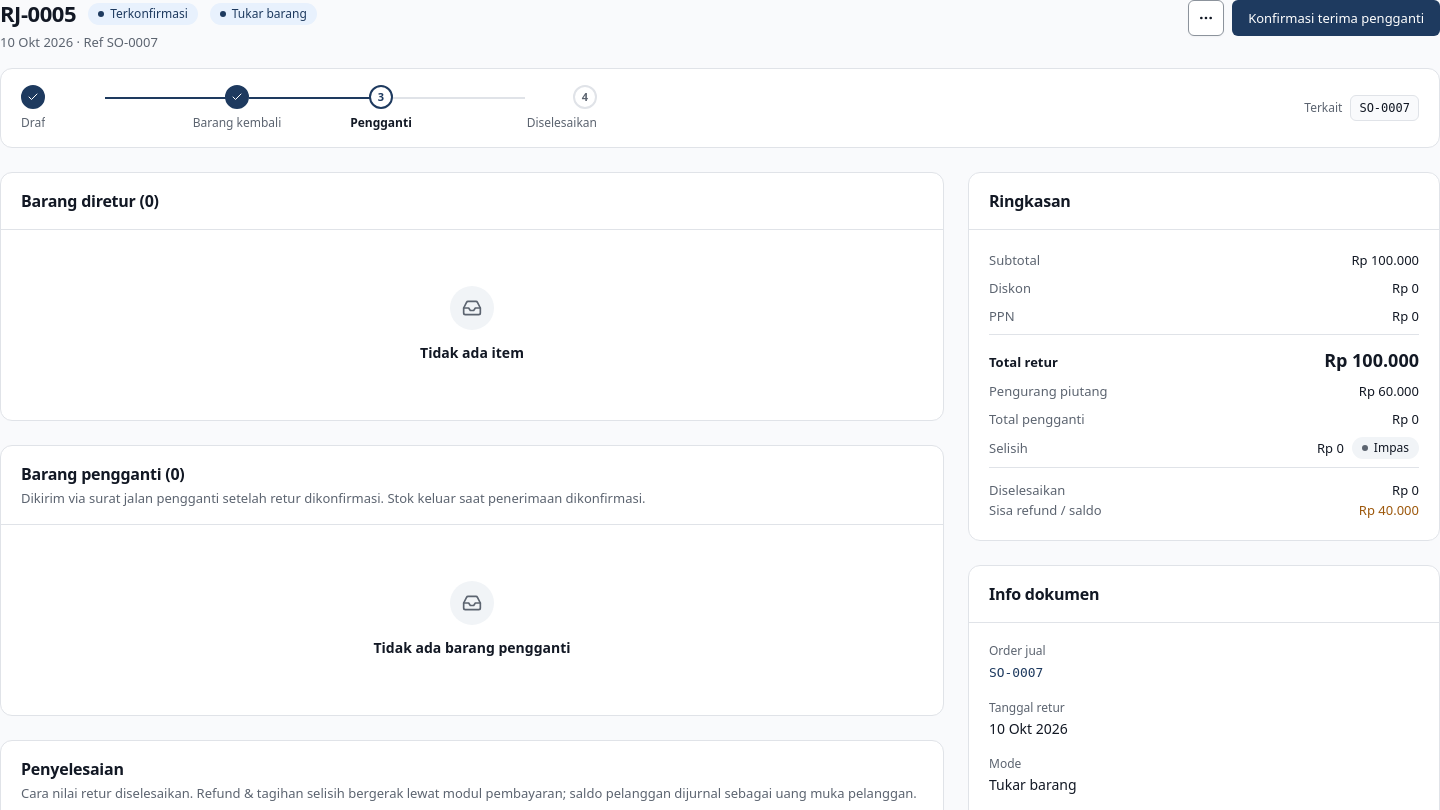
Test case: koreksi: batalkan retur & pengiriman pengganti dengan alasan › SJ pengganti masih draf: aksi tarik pengiriman meminta alasan lalu mengirimnya
This screenshot has width=1440, height=810.
Click the button named "Aksi lainnya": (1206, 18) [1188, 0, 1224, 36]
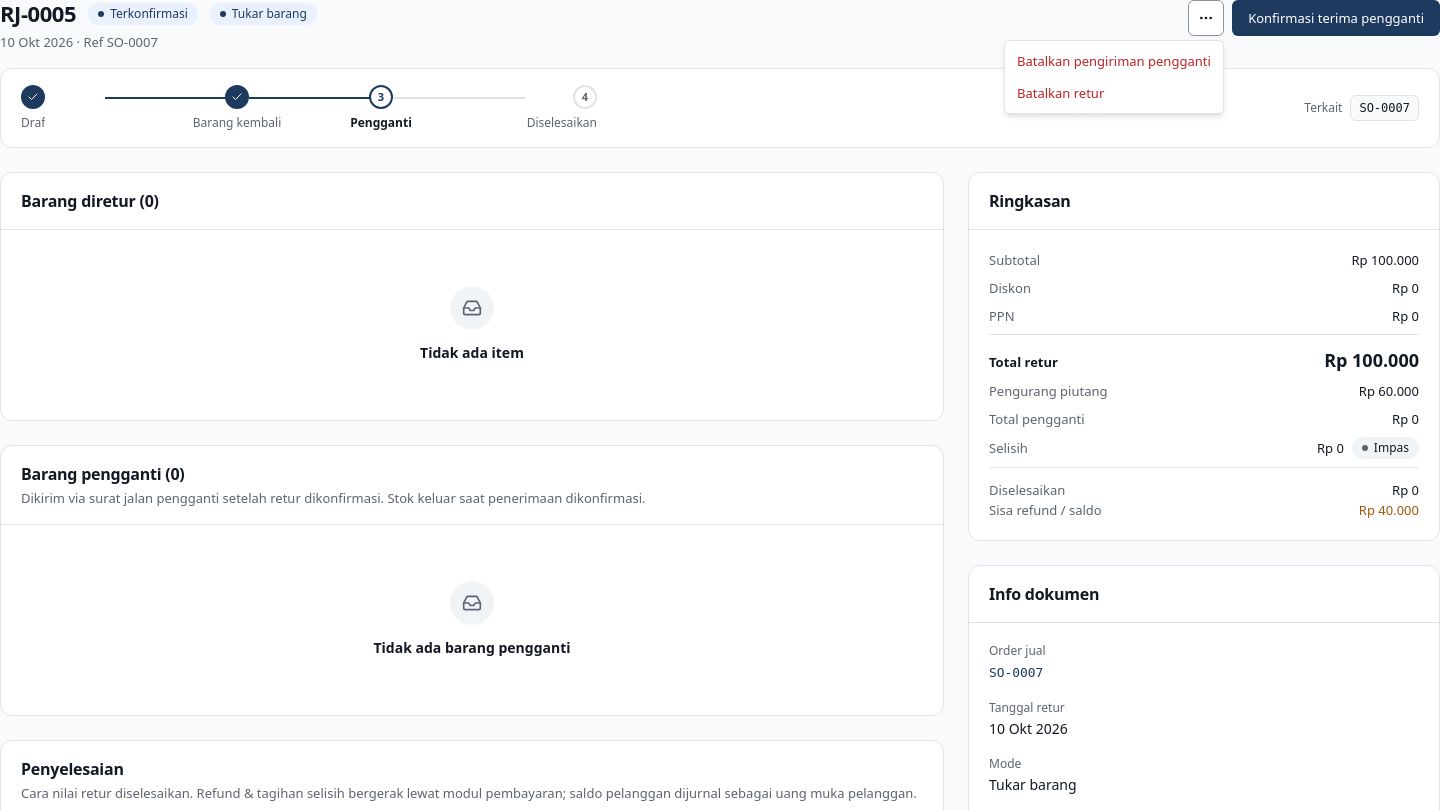
Click the menu item "Batalkan pengiriman pengganti": (1114, 61) [1017, 52, 1211, 70]
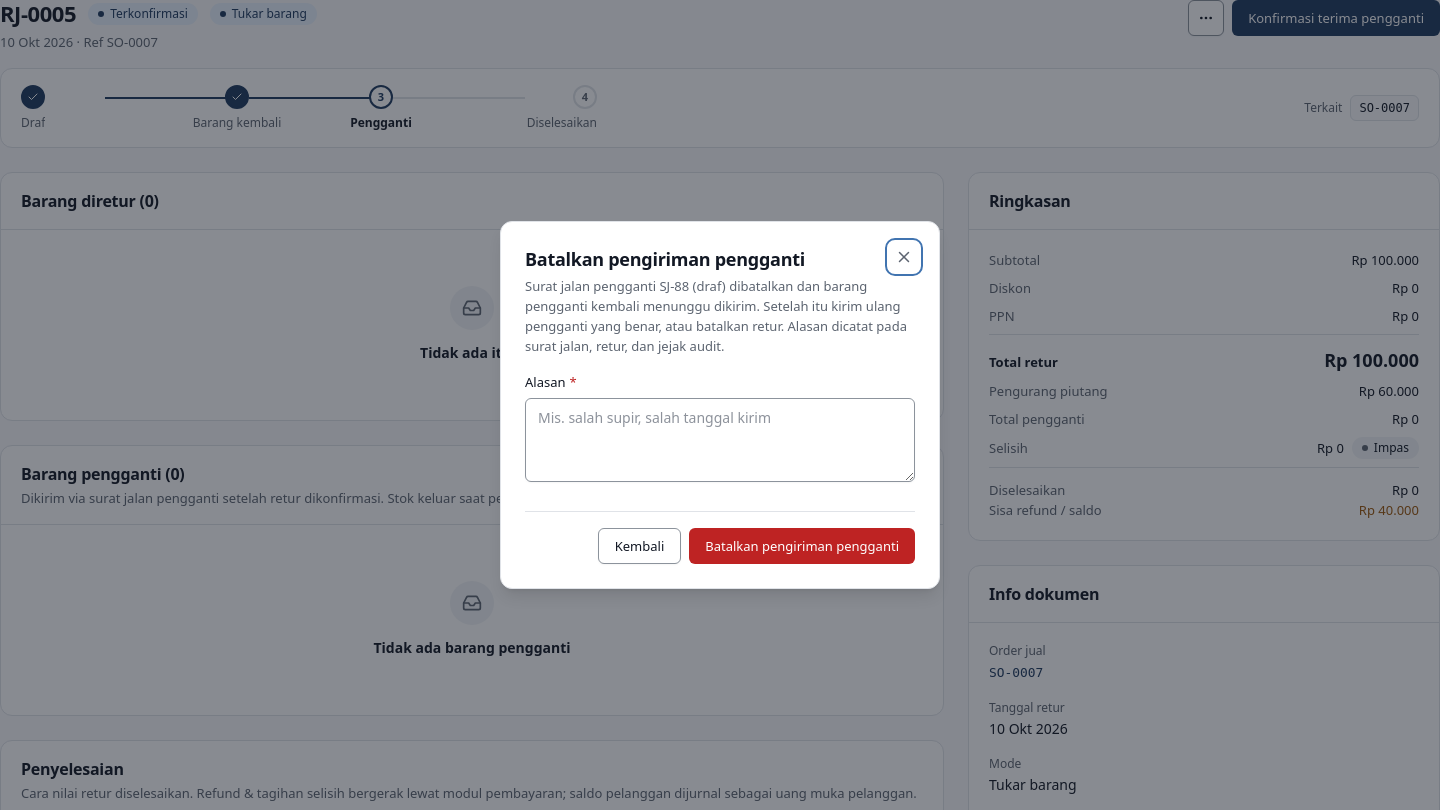
Click the button "Batalkan pengiriman pengganti": (802, 546) [689, 528, 915, 564]
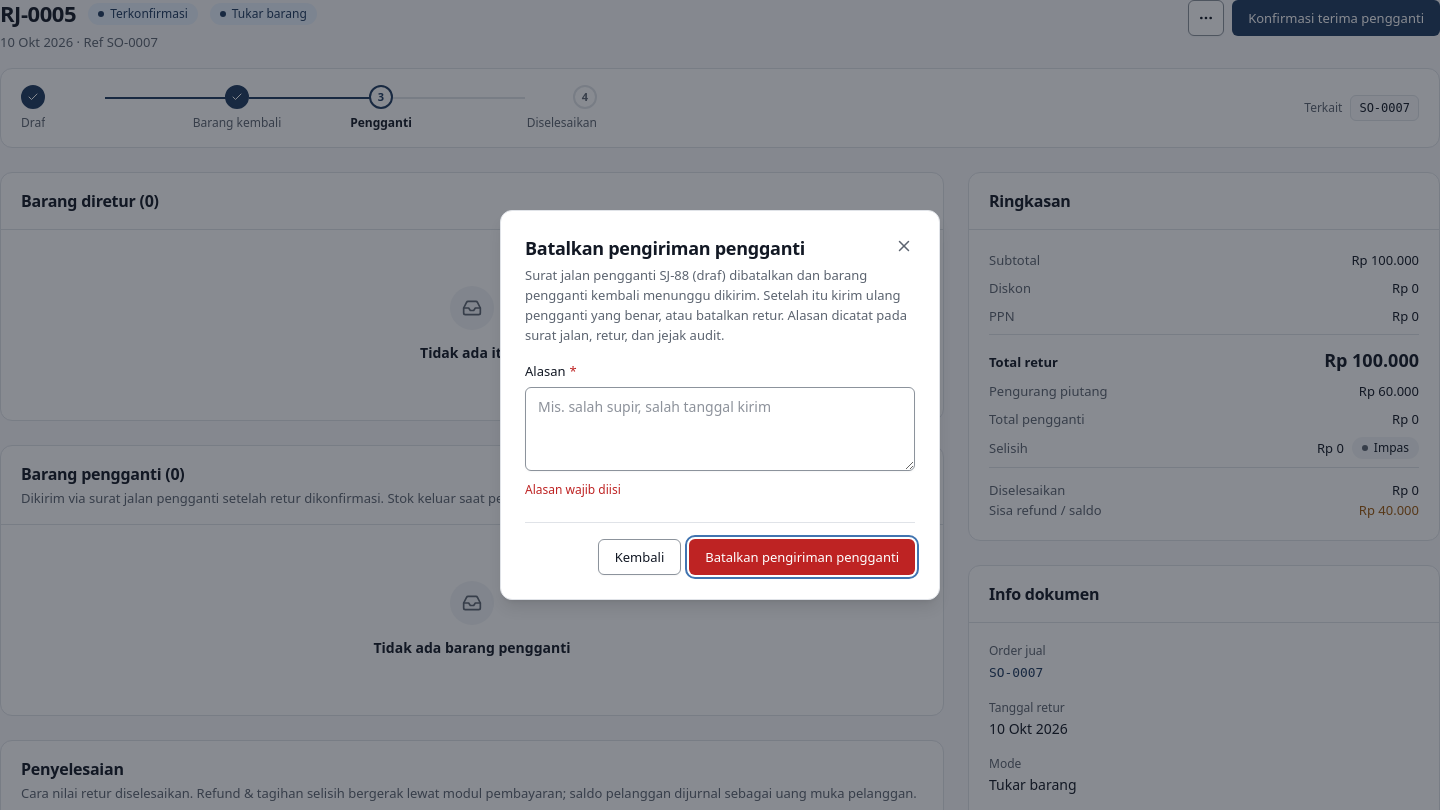
Now the text "Alasan wajib diisi" is shown, box [525, 481, 621, 498]
In the text box labelled "Alasan *": (720, 429) [525, 387, 915, 471], type "salah supir"
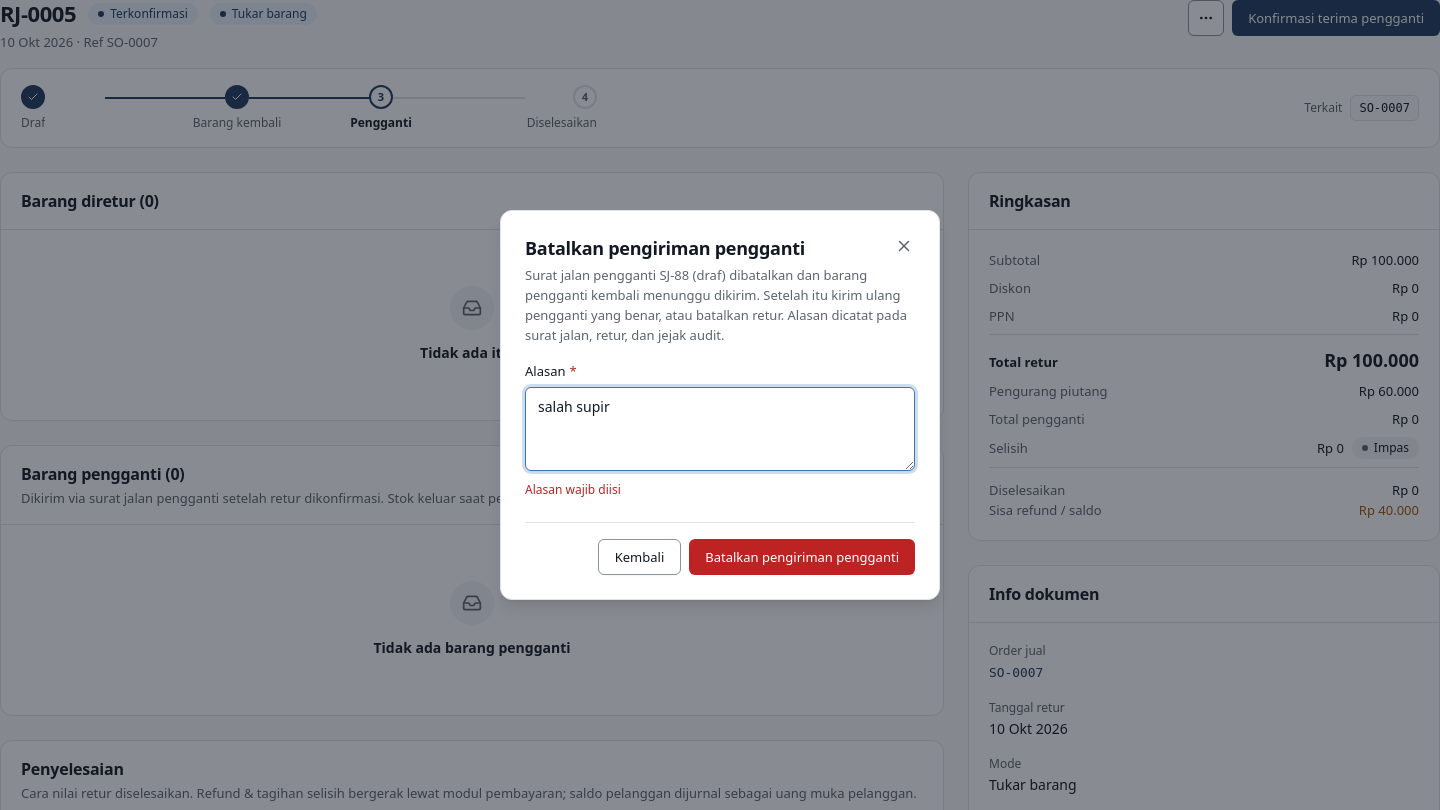
Click the button "Batalkan pengiriman pengganti": (802, 557) [689, 539, 915, 575]
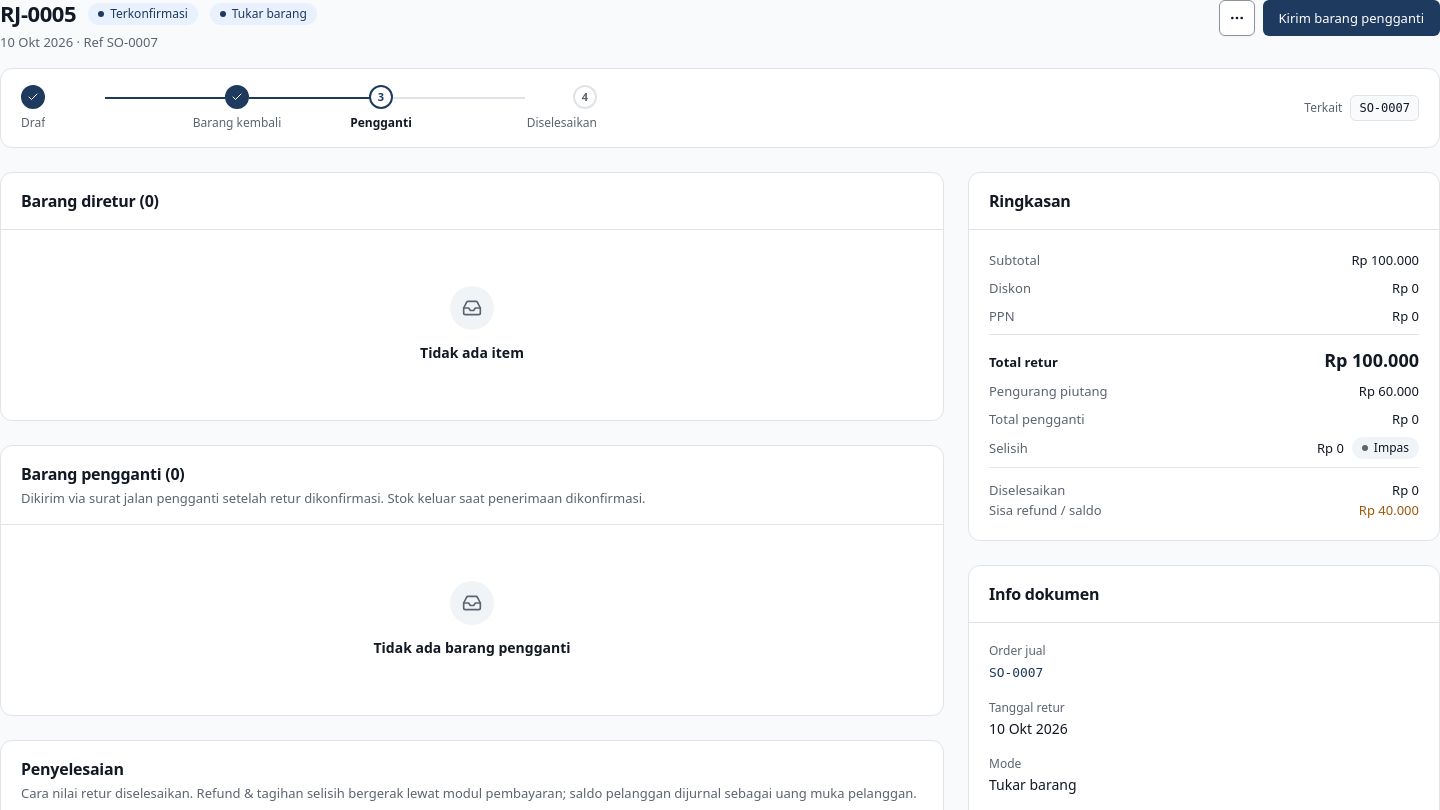
Now the dialog is gone
